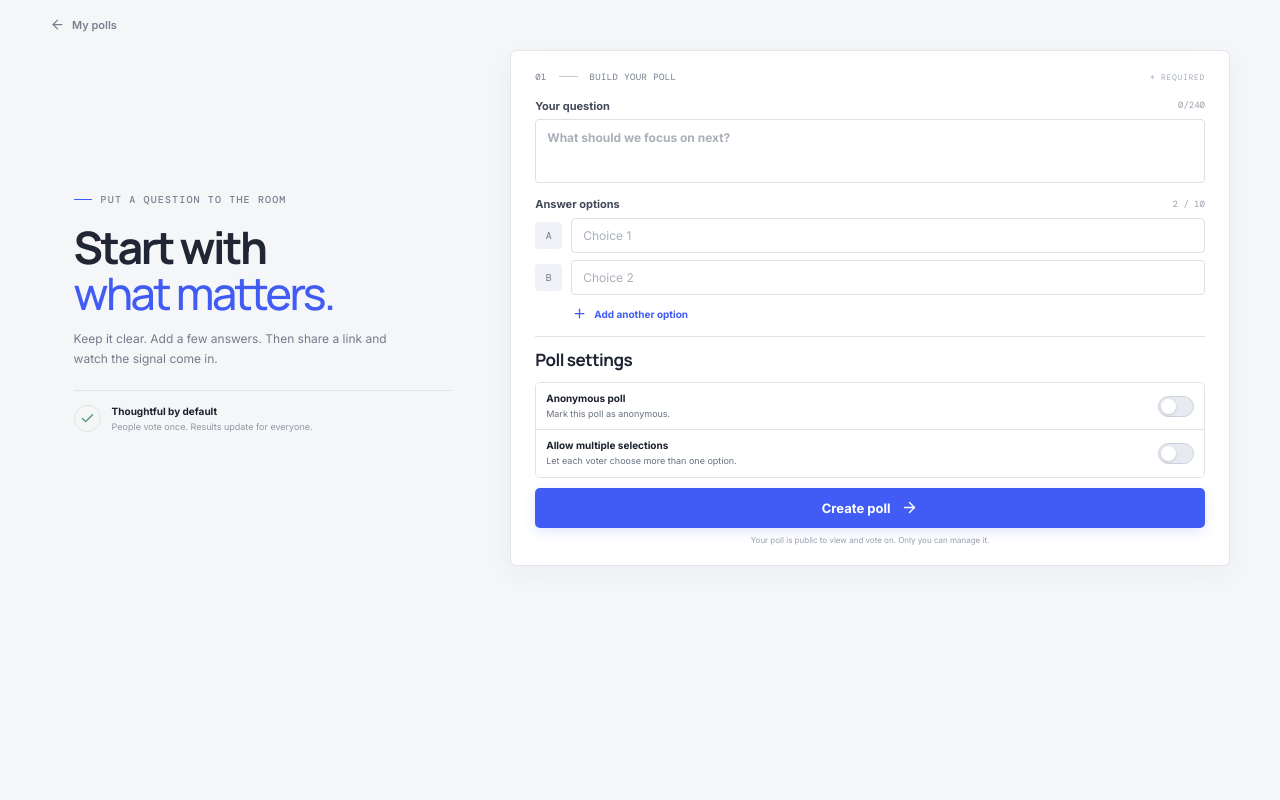
CreatePollPage › shows an API failure without hiding the form
Type "Which idea should ship first?" into the text box labelled "Your question 0/240". click: (870, 151)
box: [535, 119, 1205, 183]
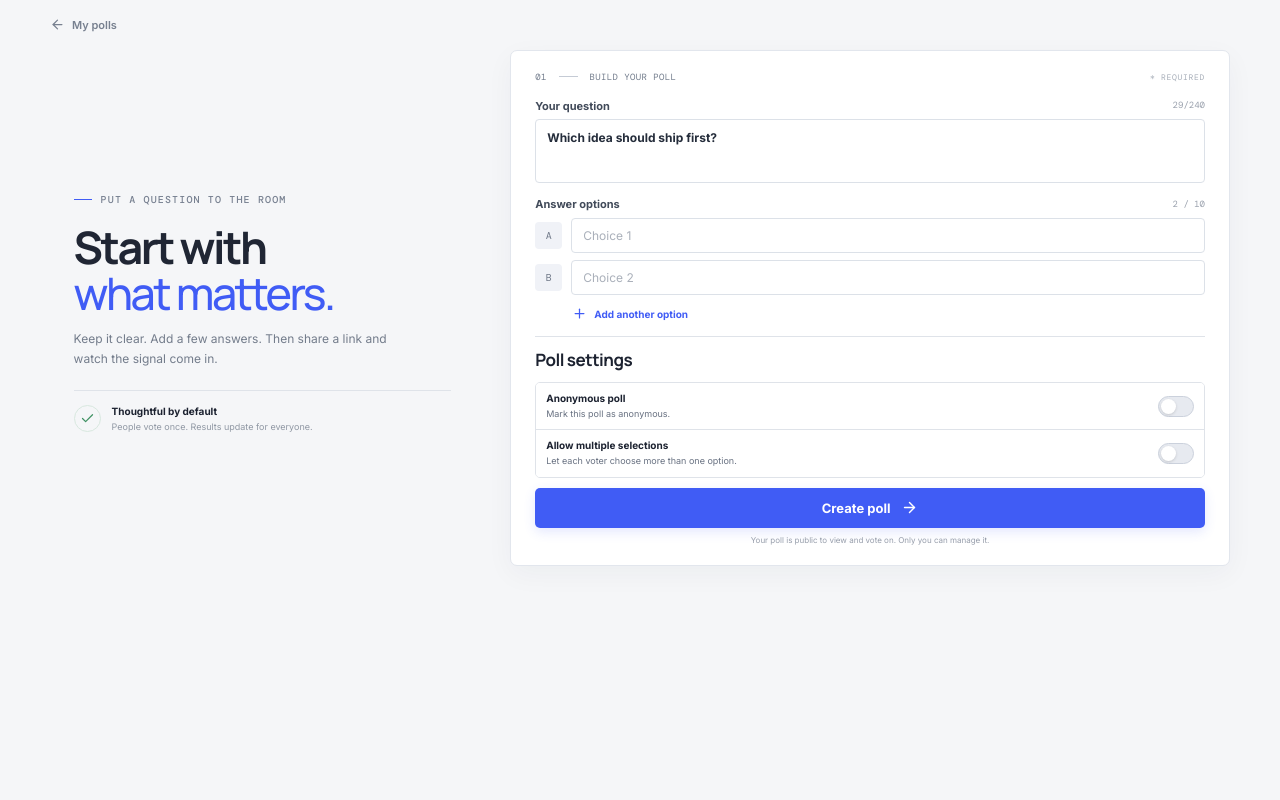
Type "Search" into the field named "Answer option 1". click: (888, 236)
box: [571, 218, 1205, 253]
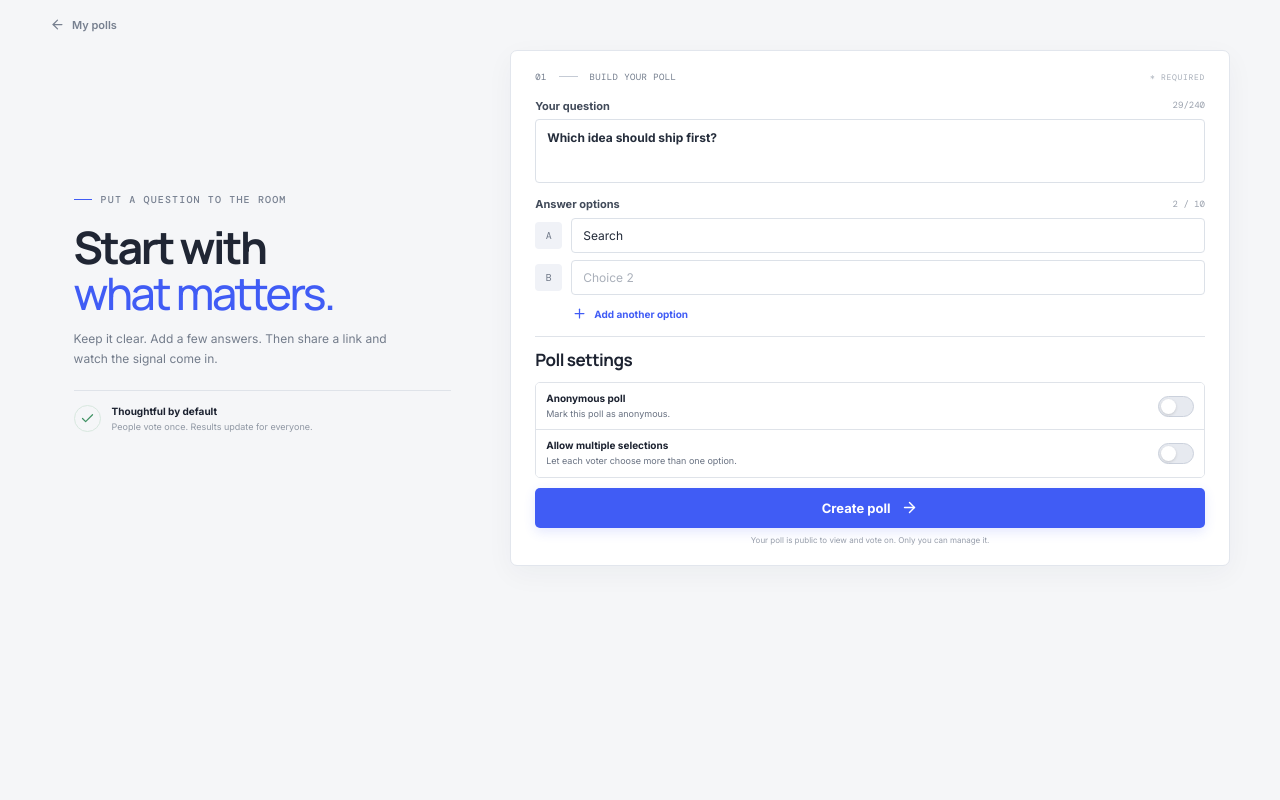
Type "Sharing" into the field named "Answer option 2". click: (888, 278)
box: [571, 260, 1205, 295]
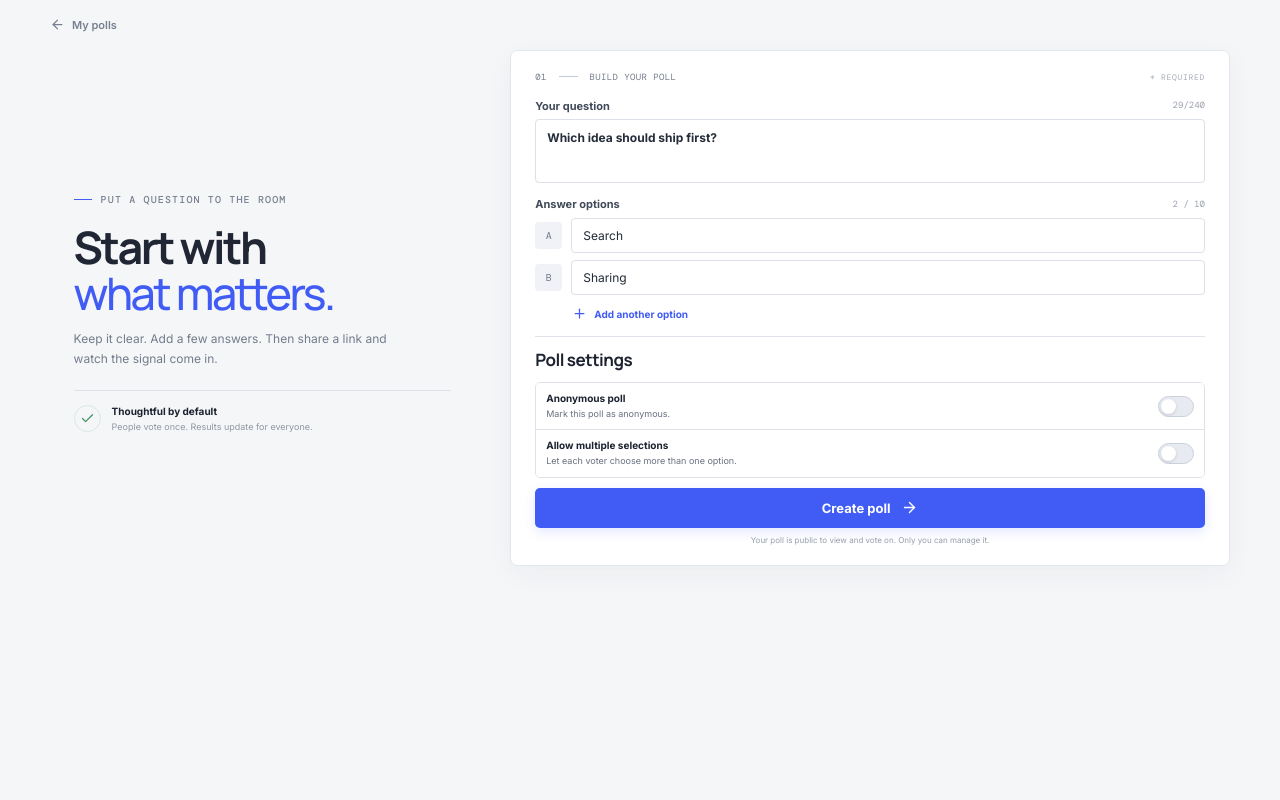
Click the button "Create poll". click: (870, 508)
box: [535, 488, 1205, 528]
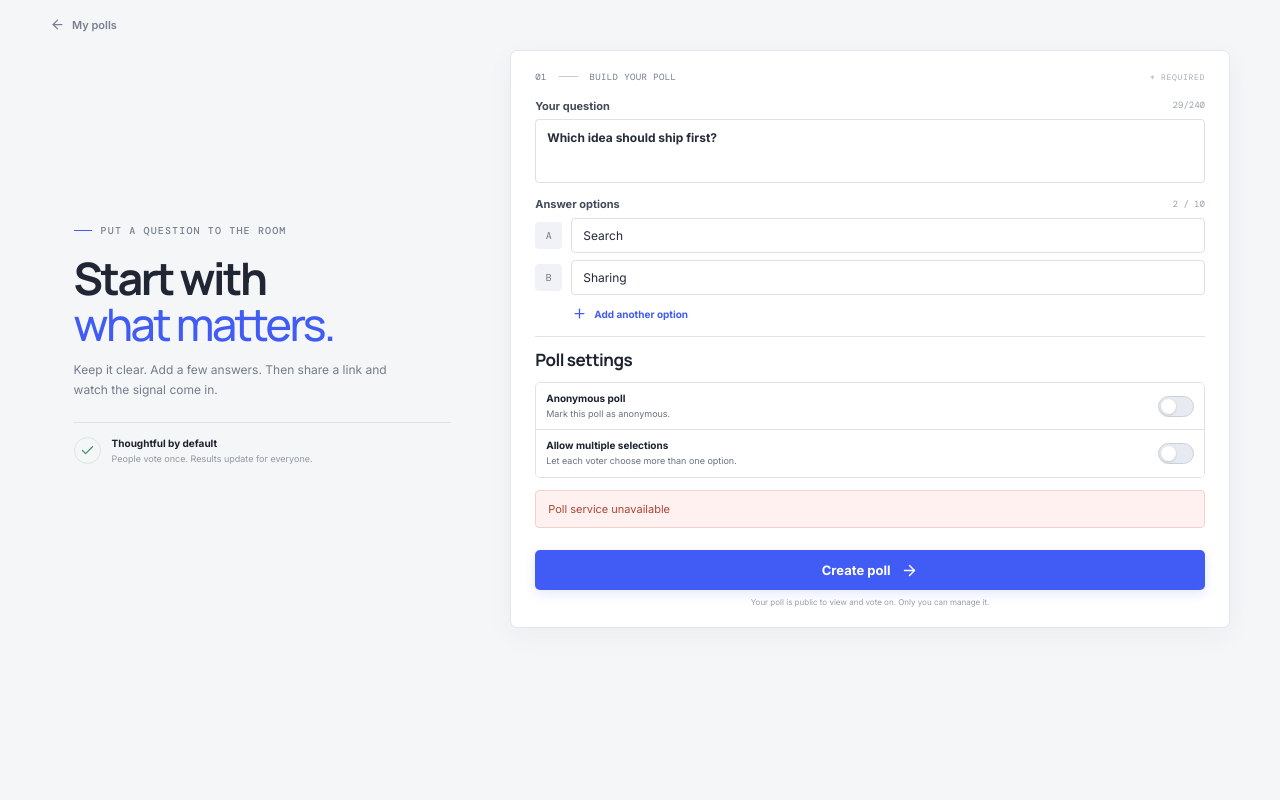
Check: the message reads "Poll service unavailable", box [548, 502, 670, 516]
